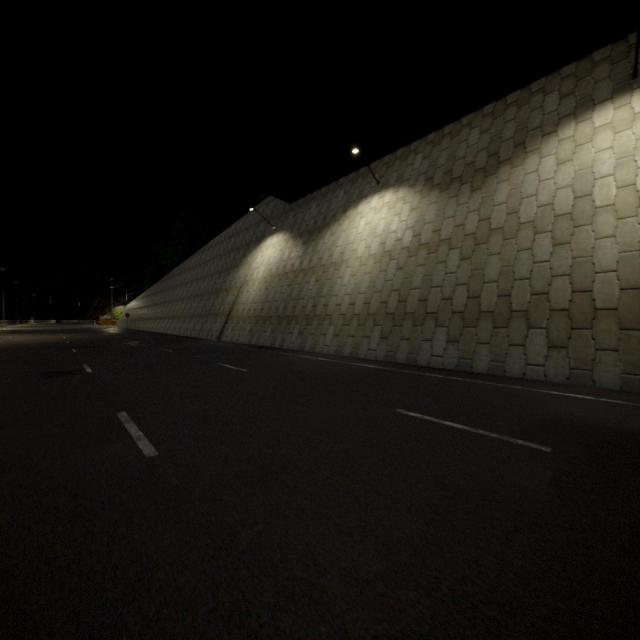Traffic_Signs: (124, 310, 130, 320)
